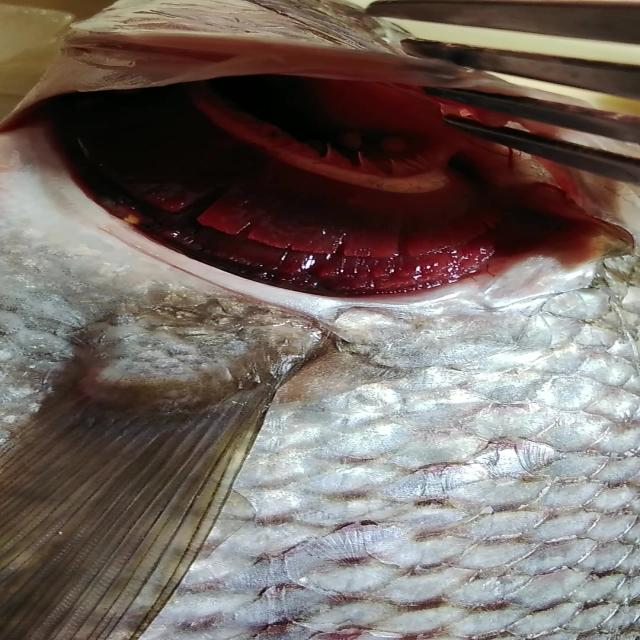Fresh: (34, 82, 576, 312)
